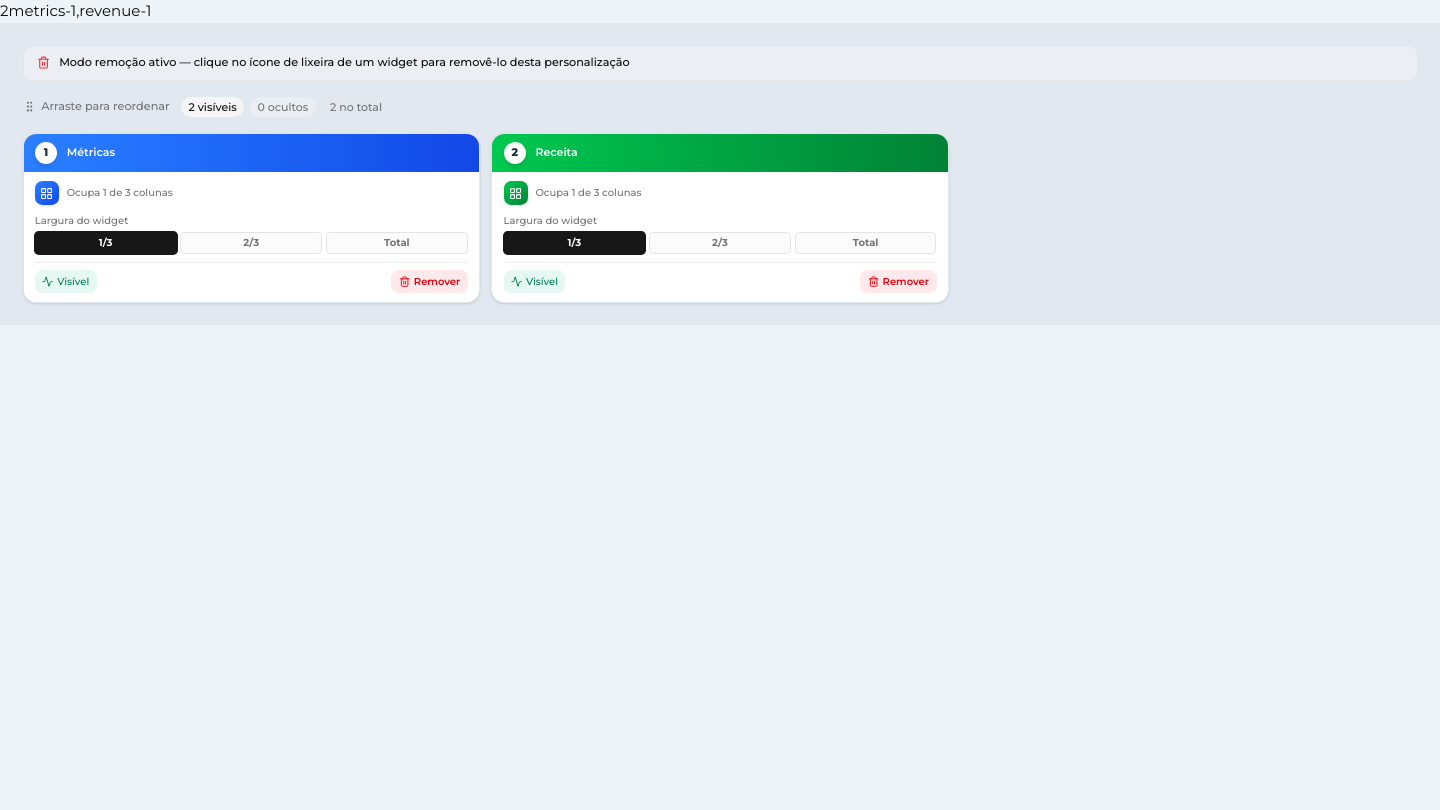
Scenario: DashboardWidgetEditorBody — remoção de widget (confirmação dupla) › confirmação final remove do rascunho, sem afetar outro widget
Click the button with aria-label "remover widget métricas" at x=430, y=281, box [391,270,468,292]
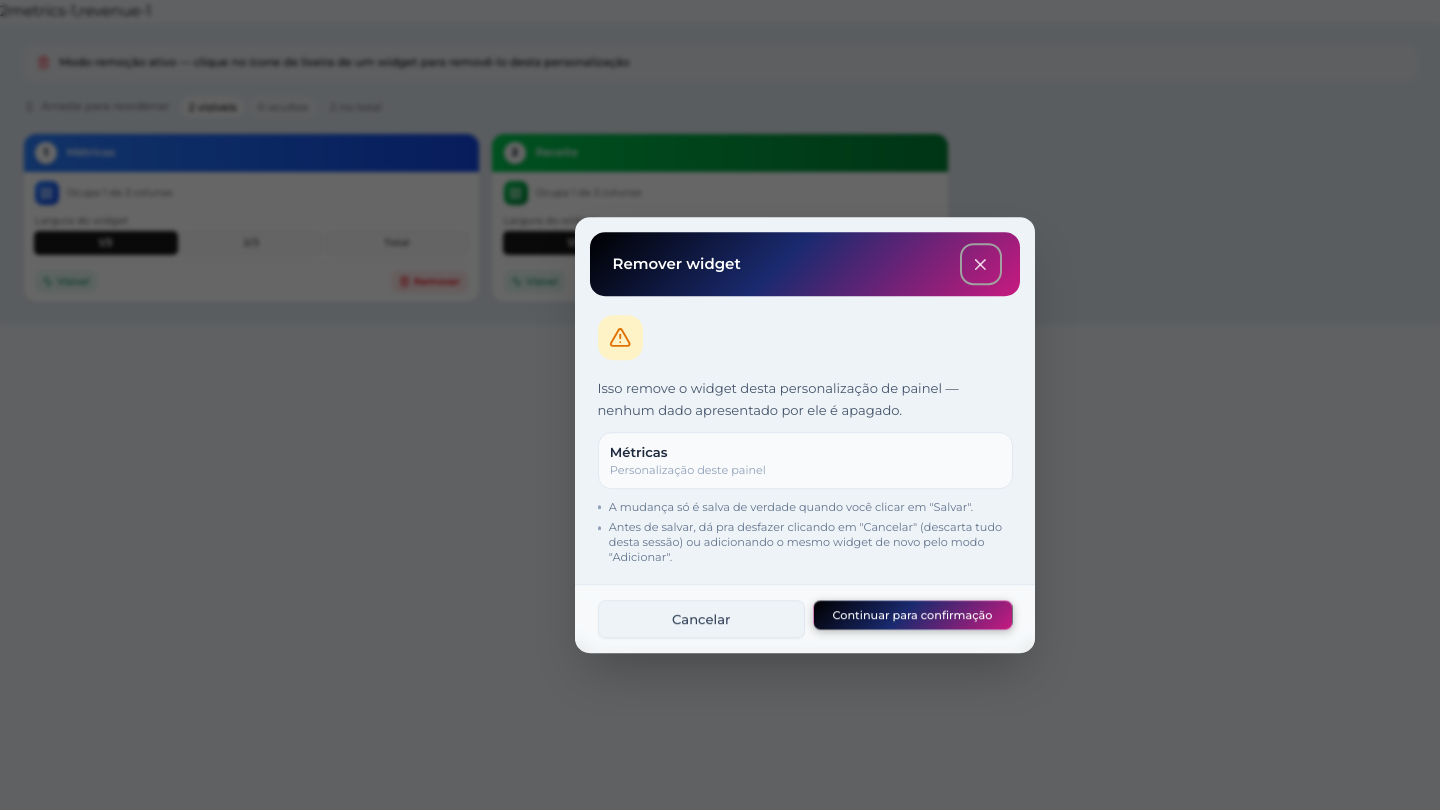
Click the button "Continuar para confirmação" at x=912, y=615, box [812,600,1012,630]
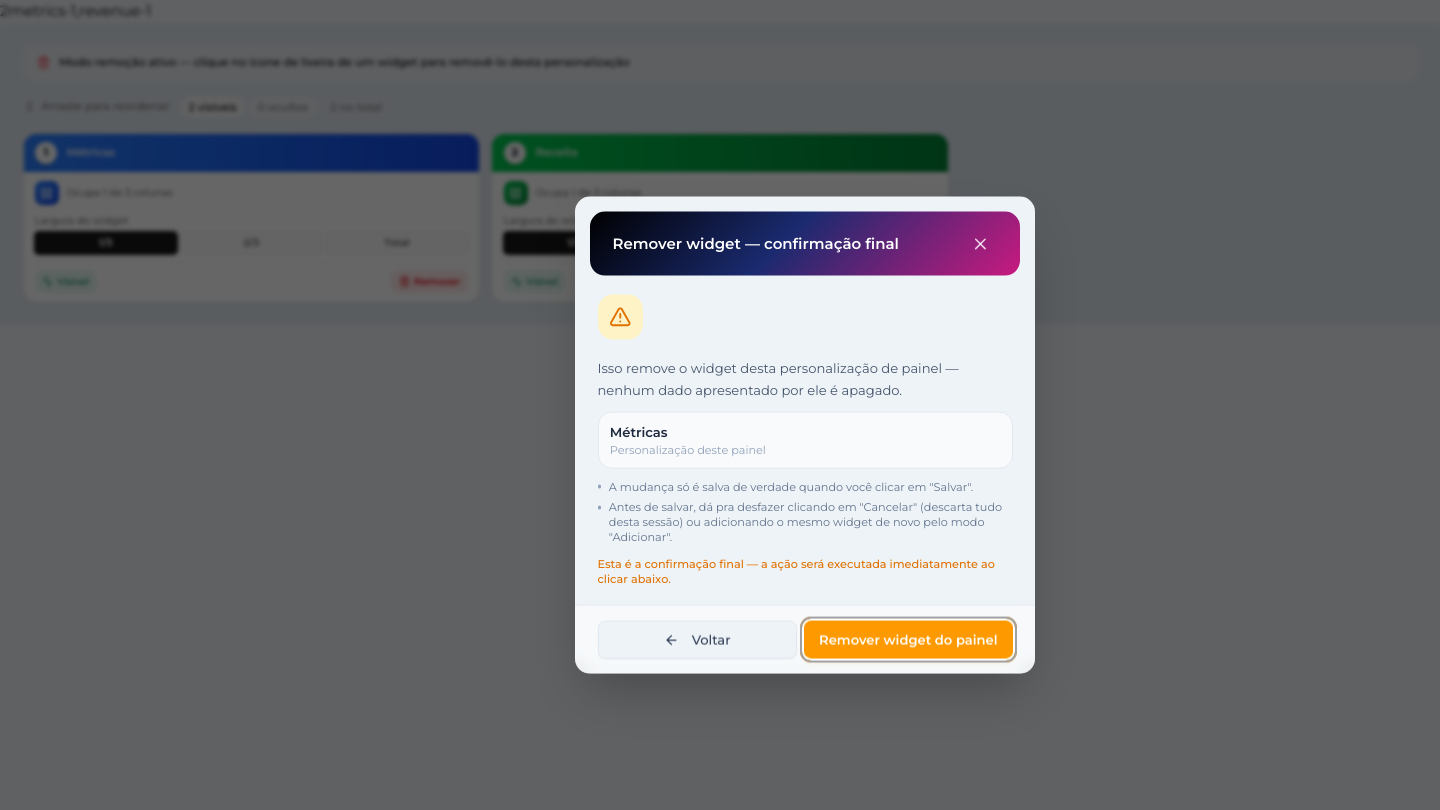
Click the button "Remover widget do painel" at x=908, y=640, box [804,621,1012,658]
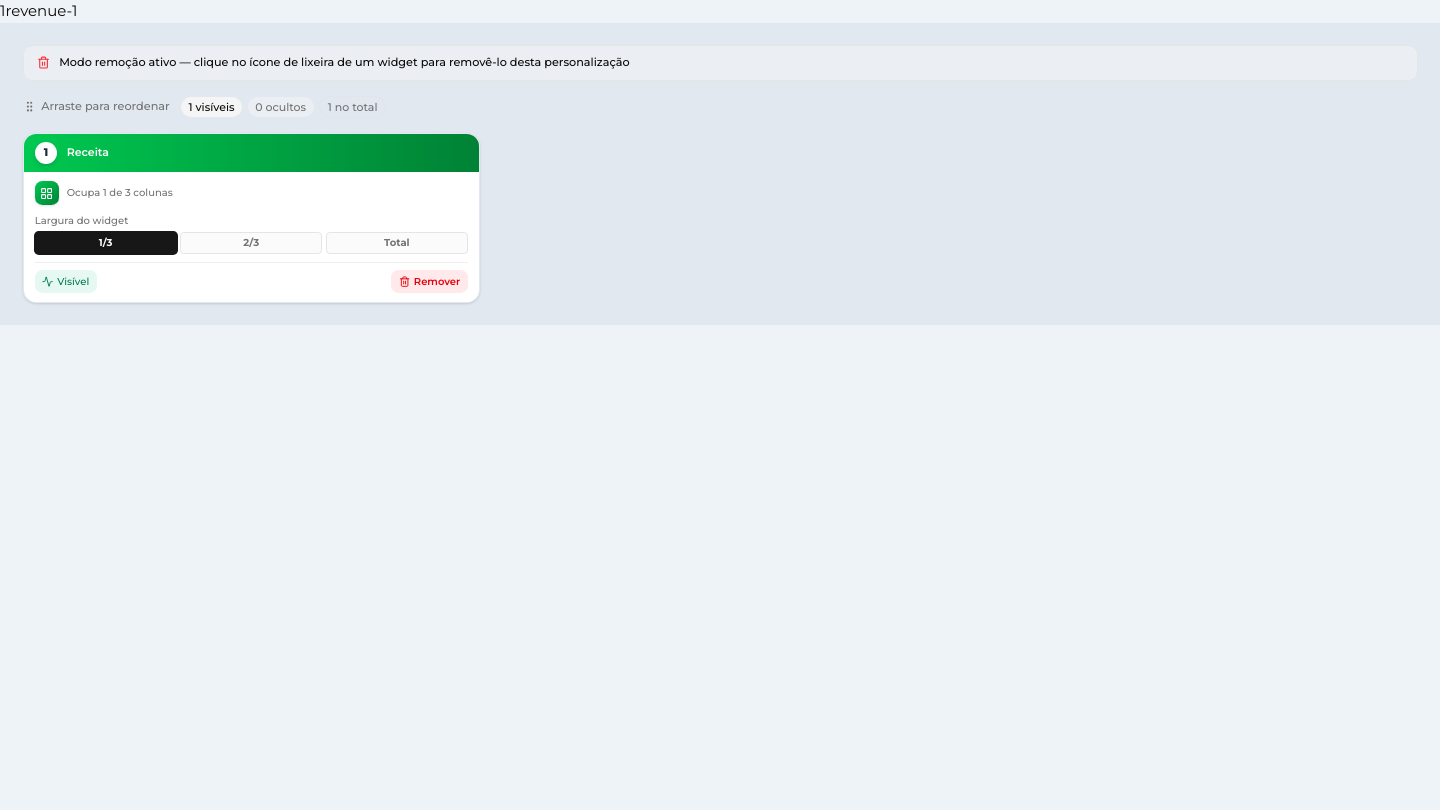
Check: the text with test id "draft-count" reads "1", box [0,1,5,20]
Check: the text with test id "draft-ids" reads "revenue-1", box [5,1,77,20]
